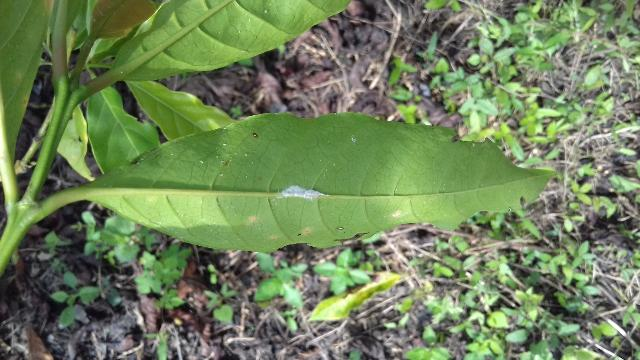rust_level_1: (88, 115, 559, 251)
